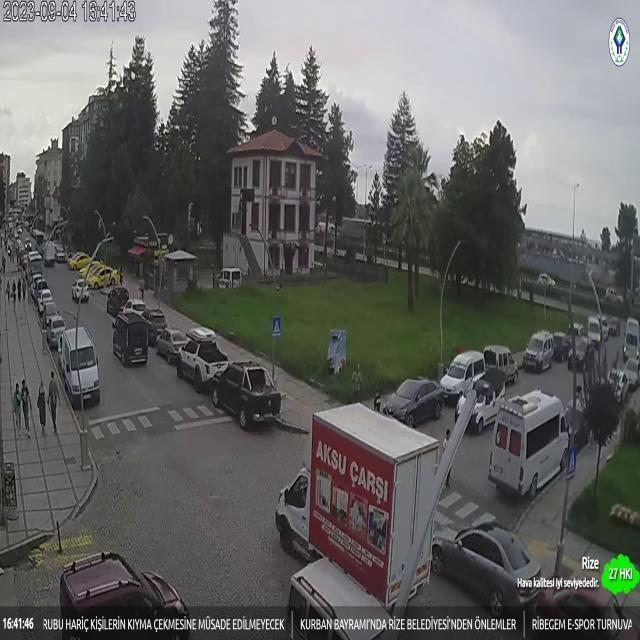Car: (62, 548, 193, 640), (434, 516, 544, 614), (533, 585, 639, 640), (378, 377, 442, 428), (154, 326, 189, 365), (566, 337, 596, 373), (143, 308, 168, 345), (86, 266, 120, 289), (45, 316, 65, 350), (120, 298, 144, 316), (70, 279, 90, 300), (68, 254, 94, 270)
Truck: (275, 402, 439, 609), (211, 362, 283, 431), (178, 328, 229, 394)
Van: (484, 388, 573, 502), (61, 325, 101, 404), (441, 350, 489, 406), (110, 313, 150, 369), (622, 317, 640, 363), (217, 267, 243, 289)
